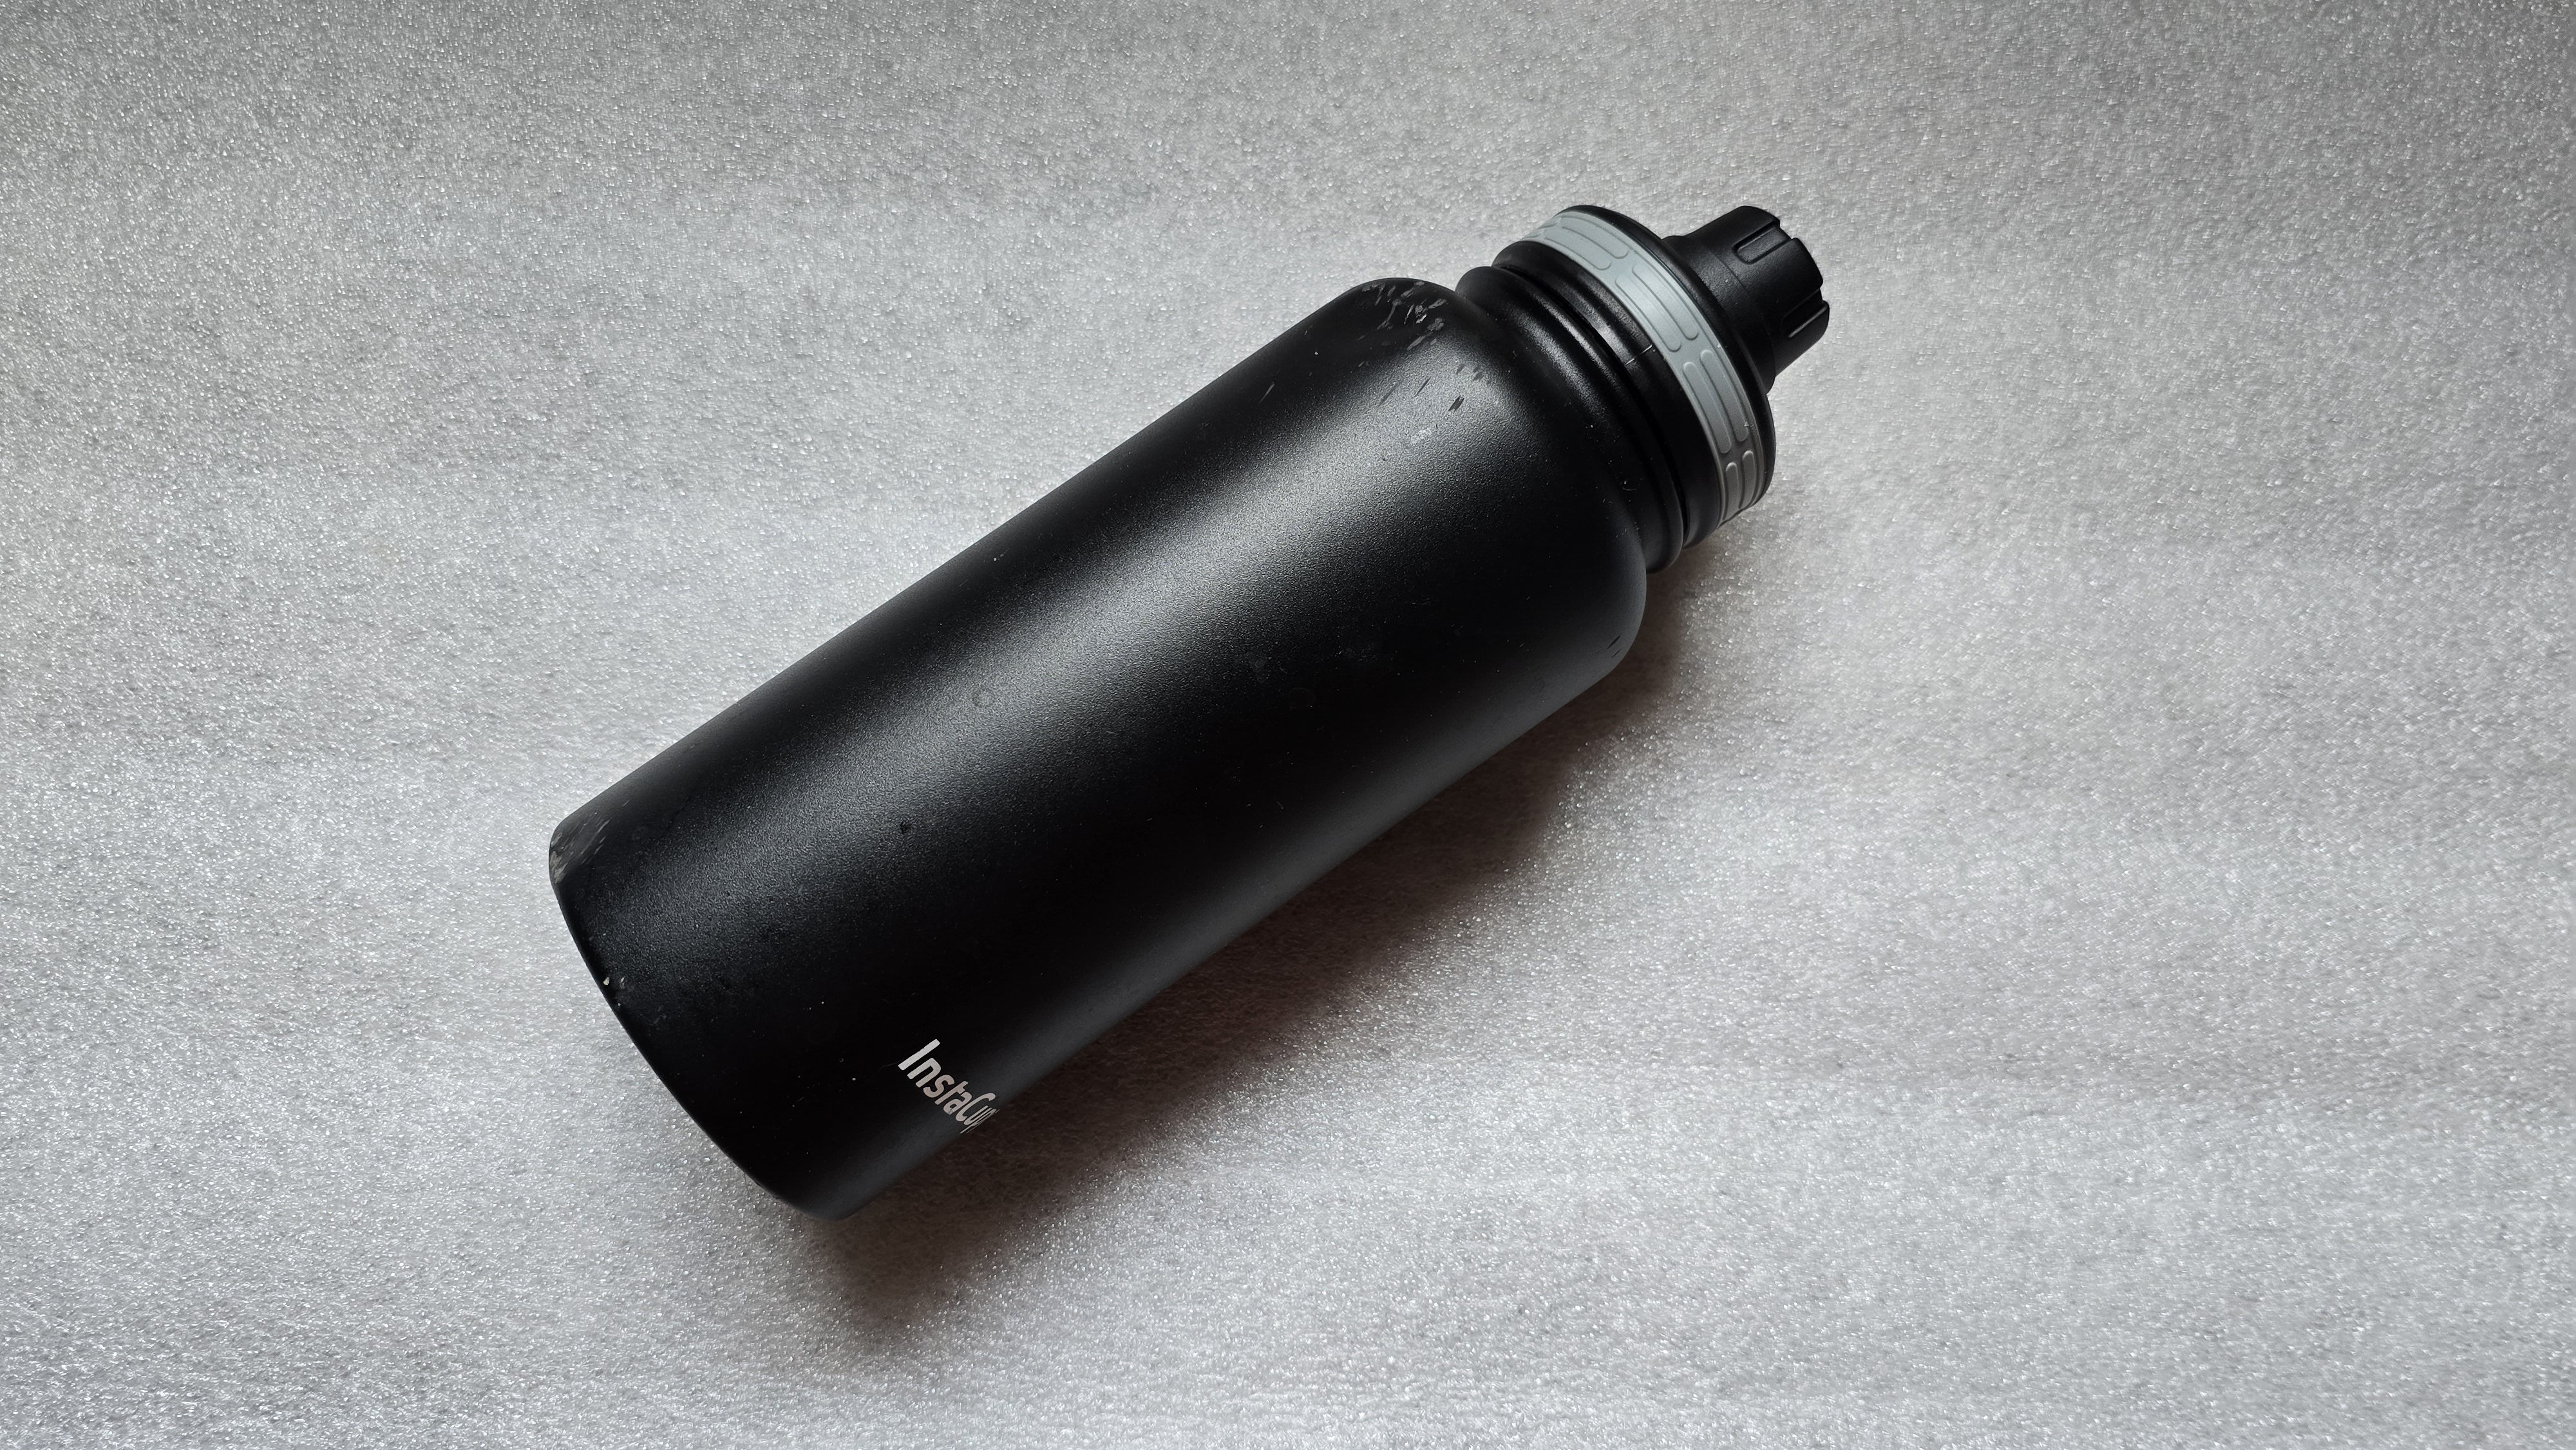bottle: (437, 172, 2015, 1240)
